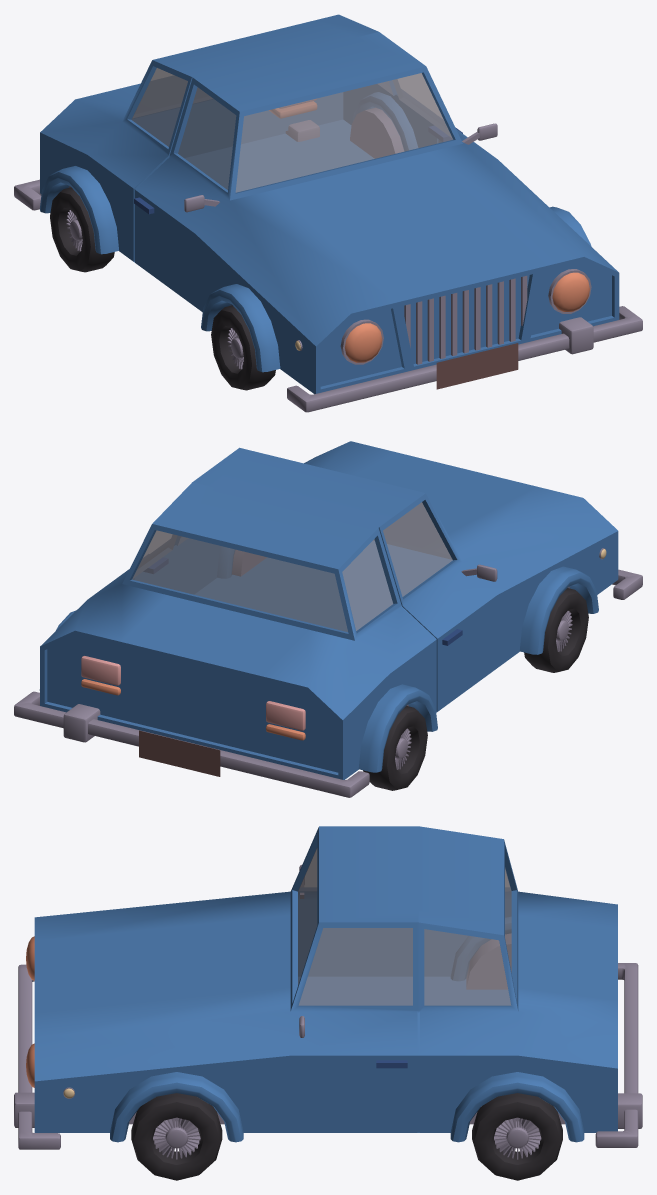
File: bus_2.fbx
3 views of the same model, one above another, from view 1: azimuth 30°, elevation 25°; view 2: azimuth 150°, elevation 25°; view 3: azimuth 270°, elevation 25° (orthographic). The views are drawn at different scales.
Visible parts, largest first — view 1: Symmetry; view 2: Symmetry; view 3: Symmetry.
Part boxes in pixels (x1=…): Symmetry: x1=14, y1=14, x2=642, y2=412; Symmetry: x1=14, y1=441, x2=642, y2=797; Symmetry: x1=14, y1=826, x2=642, y2=1180.
Size of the model in its own units: 292 by 172 by 442.
